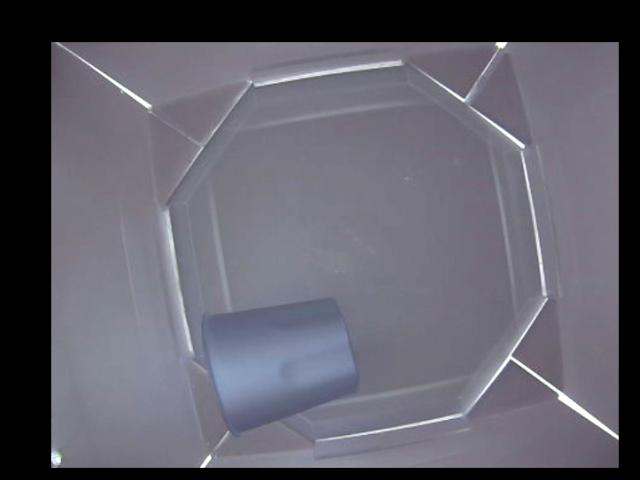Cup: (200, 299, 362, 430)
